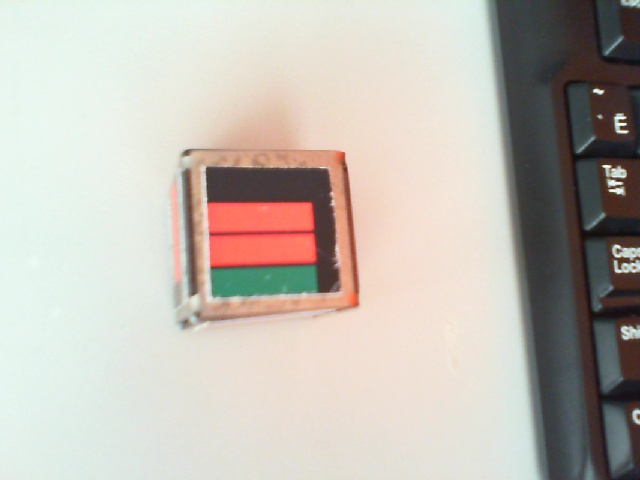square: (206, 167, 338, 297)
